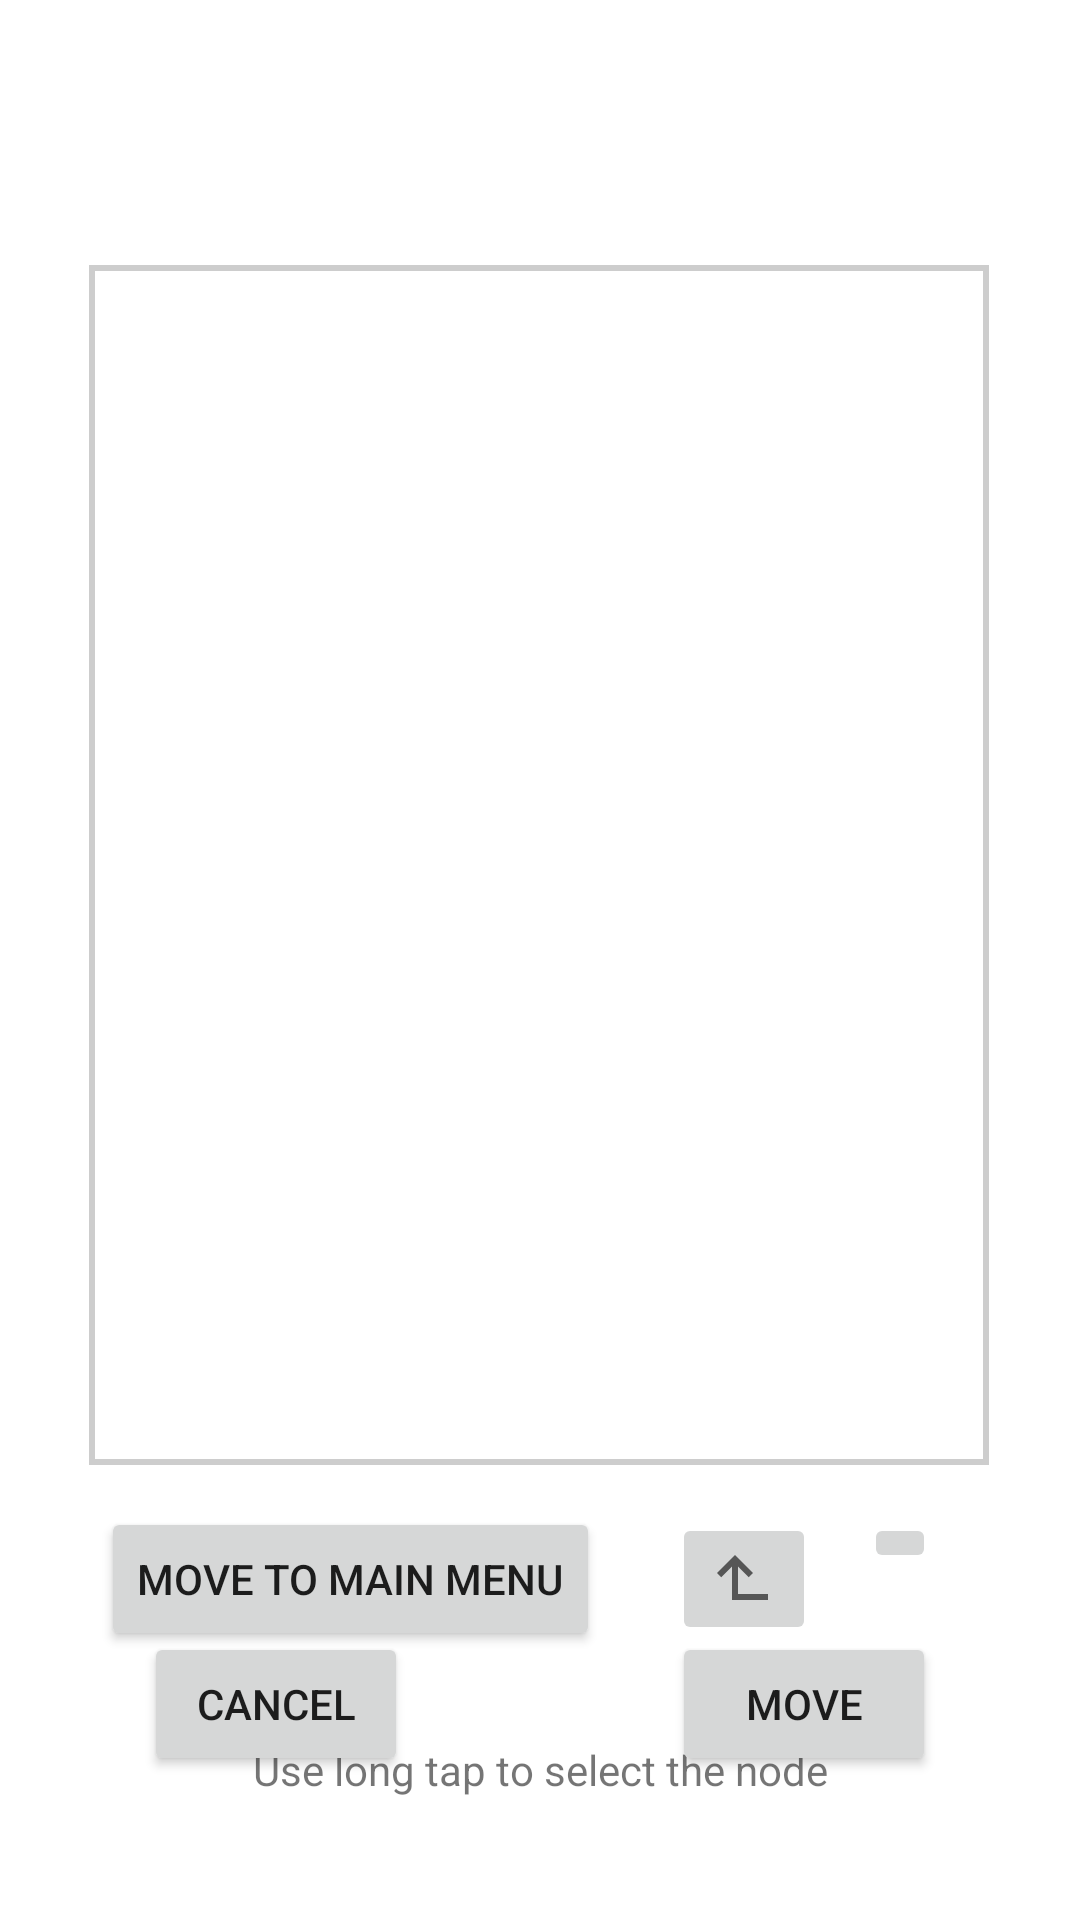

Screen size 1080 × 1920. Icon name, then its box in pixels as {"x1": x1, "y1": y1, "x2": x2, "y2": y2}:
arrow node up: {"x1": 684, "y1": 1531, "x2": 804, "y2": 1627}
